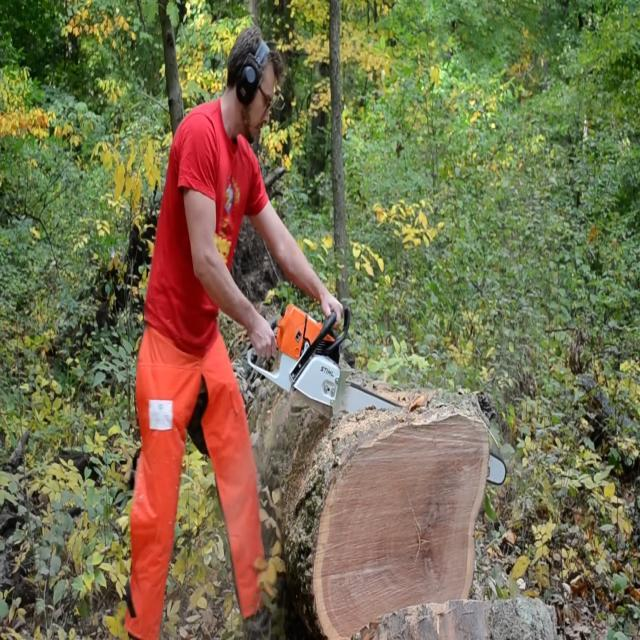Chainsaw: (222, 258, 526, 512)
